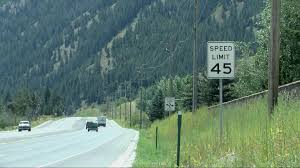speedLimit45: (207, 39, 236, 79)
